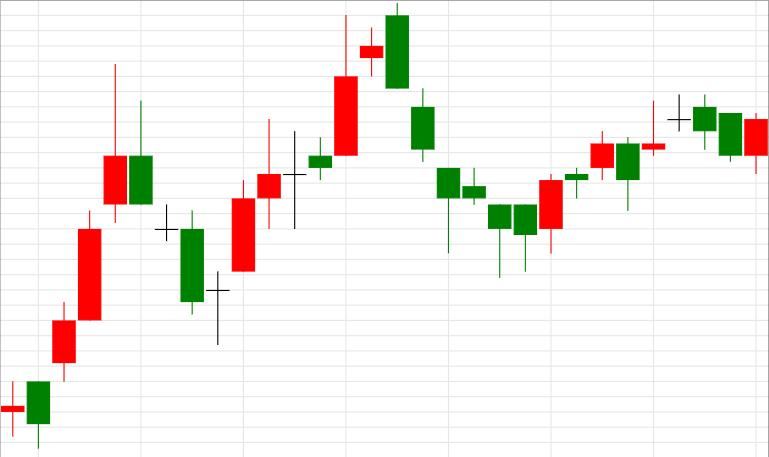shooting_star_fall: (26, 64, 127, 448)
three_black_crows_fall: (231, 3, 460, 271)
